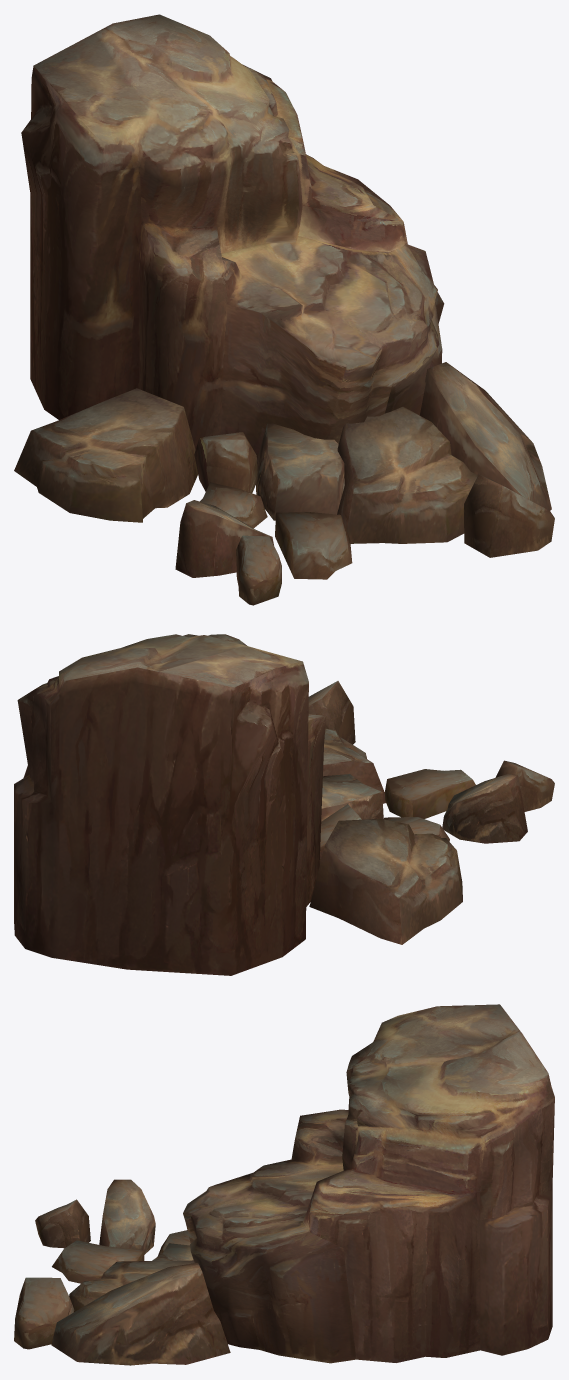
The model's file is Stone_6.FBX.
3 views of the same model, one above another, from view 1: azimuth 30°, elevation 25°; view 2: azimuth 150°, elevation 25°; view 3: azimuth 270°, elevation 25° (orthographic). The views are drawn at different scales.
Visible parts, largest first — view 1: Stone_6; view 2: Stone_6; view 3: Stone_6.
Part boxes in pixels (x1,y1,x2,y2): Stone_6: [14, 14, 554, 605]; Stone_6: [14, 634, 554, 975]; Stone_6: [14, 1004, 554, 1365].
Bounding box in the file's own units: 534 × 436 × 801.
